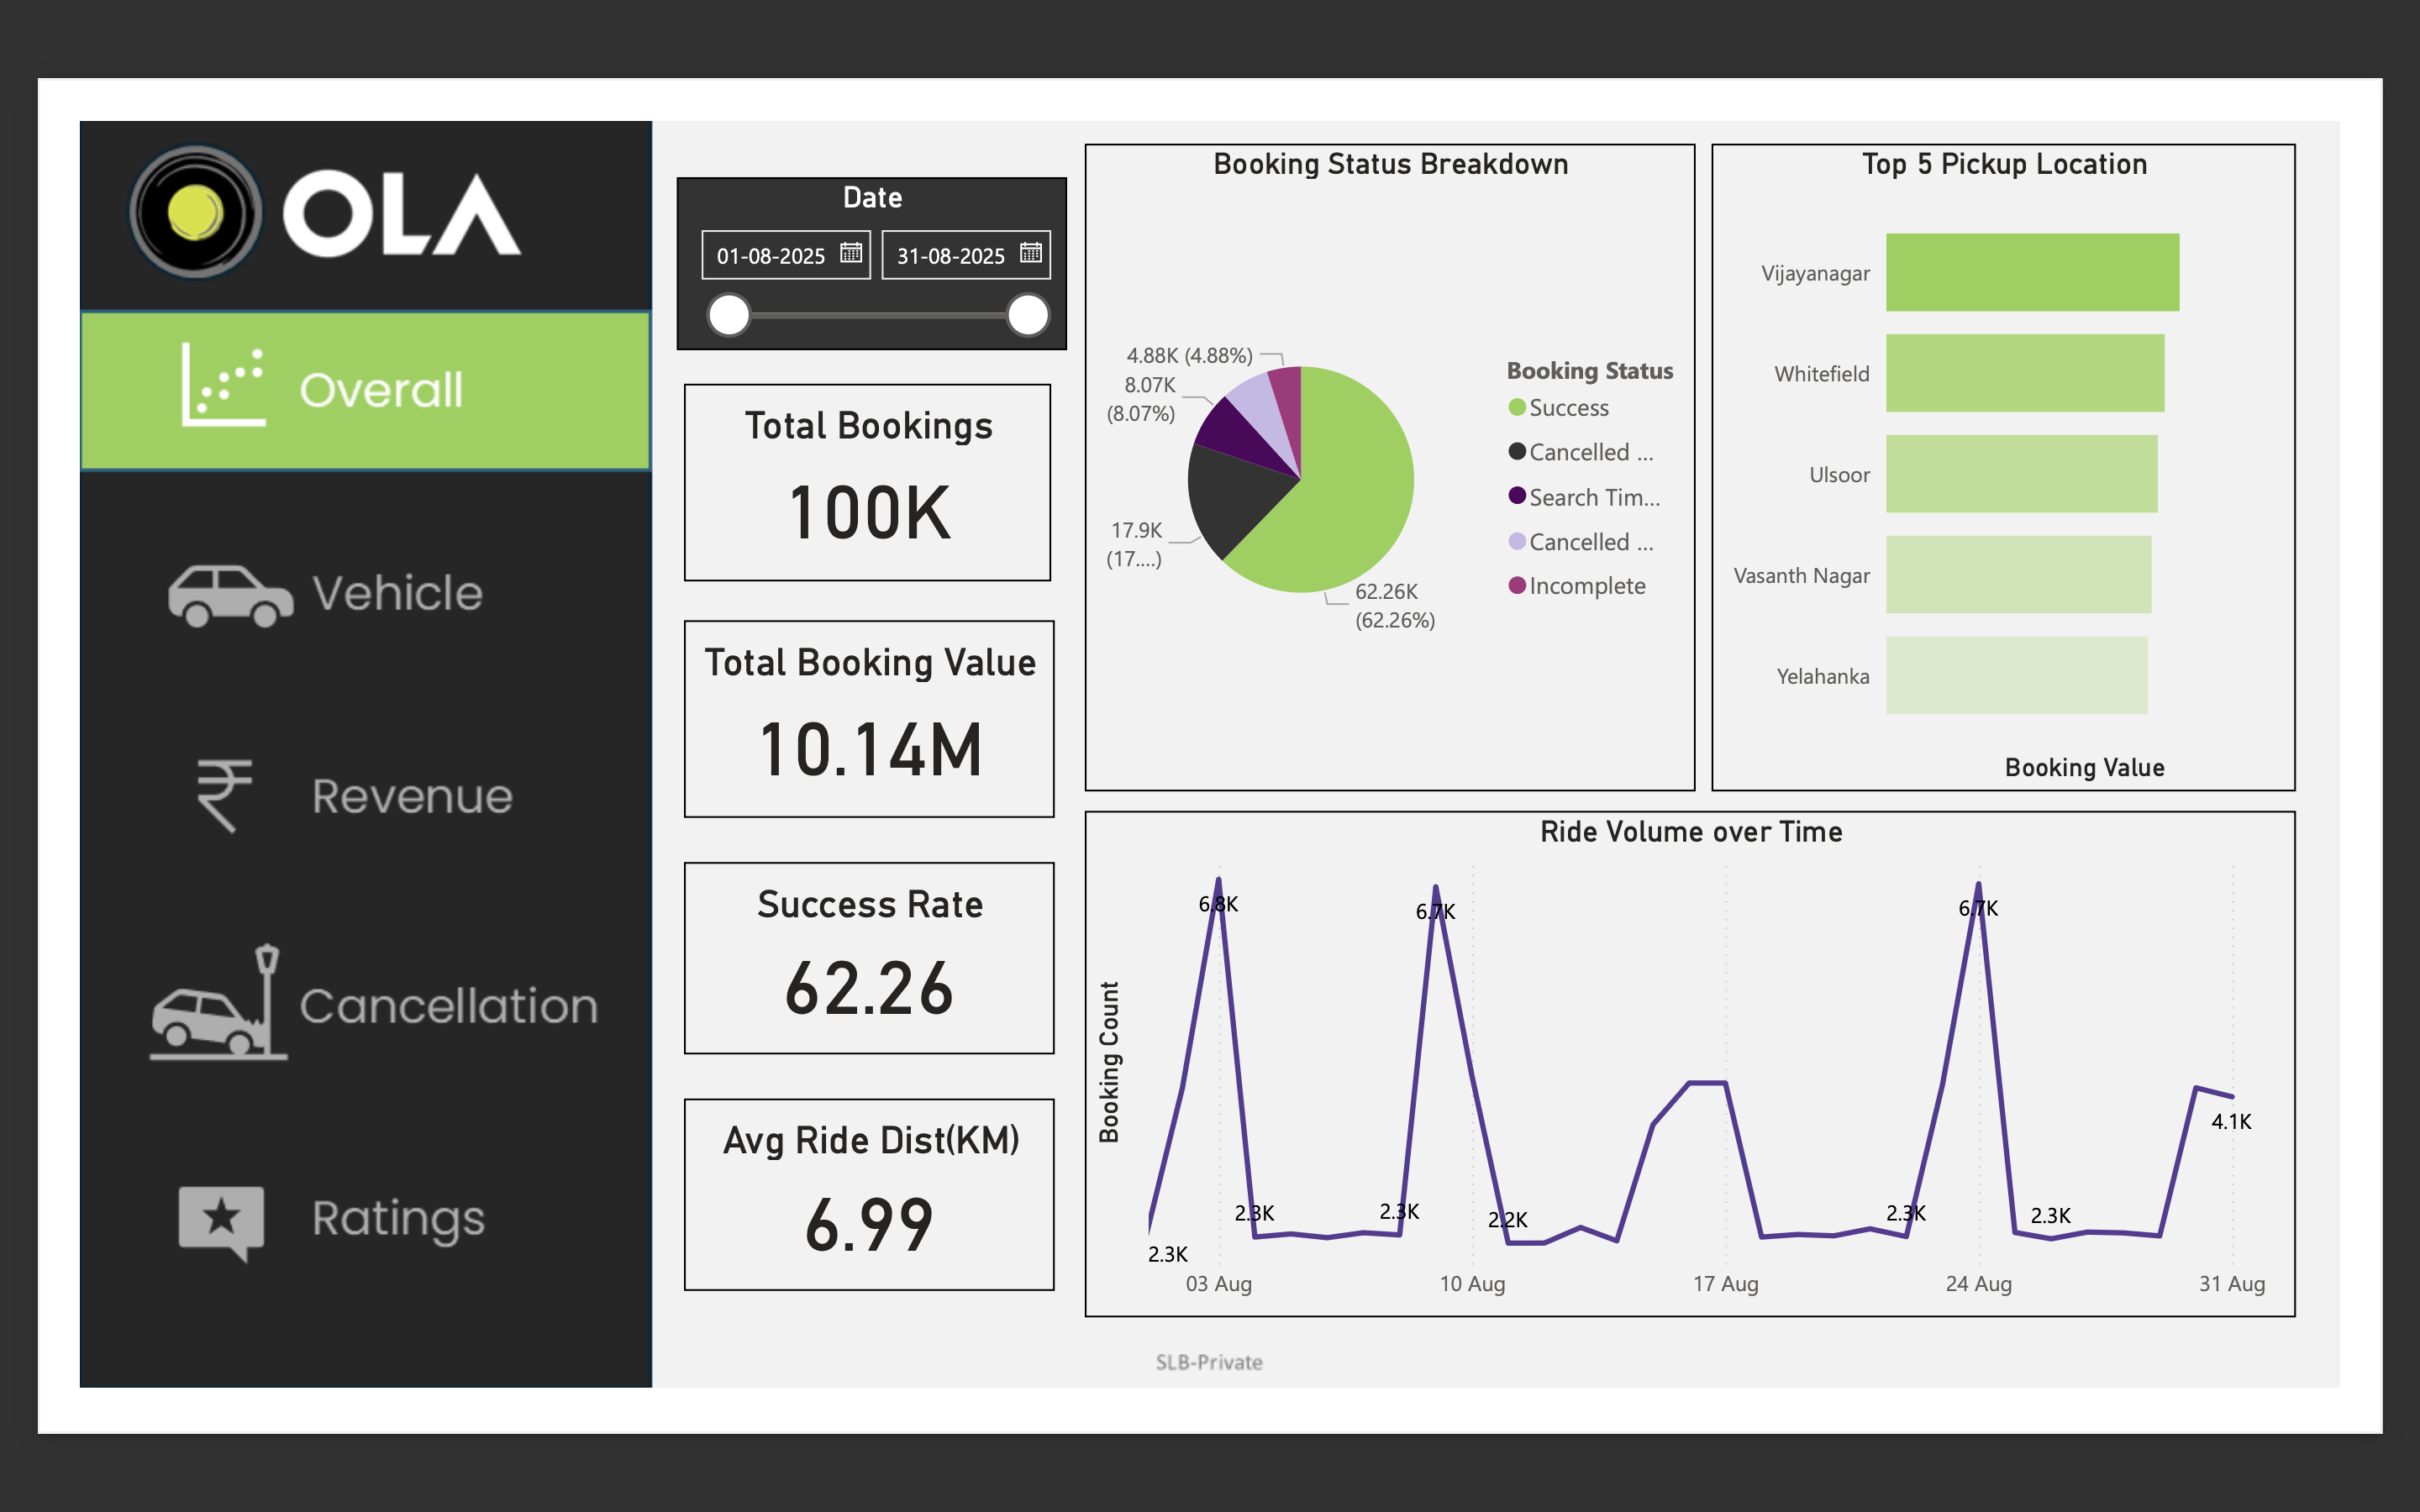

The page's visual inventory and layout, read from the dashboard file:
{"tool":"powerbi","page":{"name":"Overall","canvas":[1280,720],"ordinal":0},"visuals":[{"type":"card","title":"Total Bookings","fields":{"Values":["CountNonNull(bengaluru_rides_aug2025_100k.Booking ID)"]},"box":[342,149.3,207.9,111.5],"z":0},{"type":"card","title":"Total Booking Value","fields":{"Values":["Sum(bengaluru_rides_aug2025_100k.Booking Value)"]},"box":[342,283.5,209.8,111.5],"z":1000},{"type":"card","title":"Success Rate","fields":{"Values":["bengaluru_rides_aug2025_100k.Success Rate"]},"box":[342,419.5,209.8,109.6],"z":2000},{"type":"card","title":"Avg Ride Dist(KM)","fields":{"Values":["Avg(bengaluru_rides_aug2025_100k.Ride Distance)"]},"box":[342,553.7,209.8,109.6],"z":3000},{"type":"barChart","title":"Top 5 Pickup Location","fields":{"Y":["Sum(bengaluru_rides_aug2025_100k.Booking Value)"],"Category":["bengaluru_rides_aug2025_100k.Pickup Location"]},"box":[924.1,13.2,330.7,366.6],"z":4000},{"type":"pieChart","title":"Booking Status Breakdown","fields":{"Category":["bengaluru_rides_aug2025_100k.Booking Status"],"Y":["CountNonNull(bengaluru_rides_aug2025_100k.Booking Status)"]},"box":[568.8,13.2,345.8,366.6],"z":5000},{"type":"lineChart","title":"Ride Volume over Time ","fields":{"Category":["bengaluru_rides_aug2025_100k.Date"],"Y":["CountNonNull(bengaluru_rides_aug2025_100k.Booking ID)"]},"box":[568.8,391.2,686,287.2],"z":6000},{"type":"actionButton","box":[0,221.1,325,90.7],"z":7000},{"type":"actionButton","box":[0,105.8,325,90.7],"z":8000},{"type":"actionButton","box":[0,334.5,325,90.7],"z":9000},{"type":"actionButton","box":[0,453.5,325,90.7],"z":10000},{"type":"actionButton","box":[0,577.6,325.9,91.4],"z":11000},{"type":"slicer","title":"Date","fields":{"Values":["bengaluru_rides_aug2025_100k.Date"]},"box":[338.3,32.1,221.1,98.3],"z":12000}]}

Visuals, with their boxes on the page's 1280x720 design canvas (x1, y1, x2, y2). These are canvas units, not pixel positions in the 2420x1512 screenshot, which may show the page scaled, cropped or inside an application window:
"Total Bookings" card: left=342, top=149, right=550, bottom=261
"Total Booking Value" card: left=342, top=284, right=552, bottom=395
"Success Rate" card: left=342, top=420, right=552, bottom=529
"Avg Ride Dist(KM)" card: left=342, top=554, right=552, bottom=663
"Top 5 Pickup Location" barChart: left=924, top=13, right=1255, bottom=380
"Booking Status Breakdown" pieChart: left=569, top=13, right=915, bottom=380
"Ride Volume over Time " lineChart: left=569, top=391, right=1255, bottom=678
actionButton: left=0, top=221, right=325, bottom=312
actionButton: left=0, top=106, right=325, bottom=196
actionButton: left=0, top=334, right=325, bottom=425
actionButton: left=0, top=454, right=325, bottom=544
actionButton: left=0, top=578, right=326, bottom=669
"Date" slicer: left=338, top=32, right=559, bottom=130
